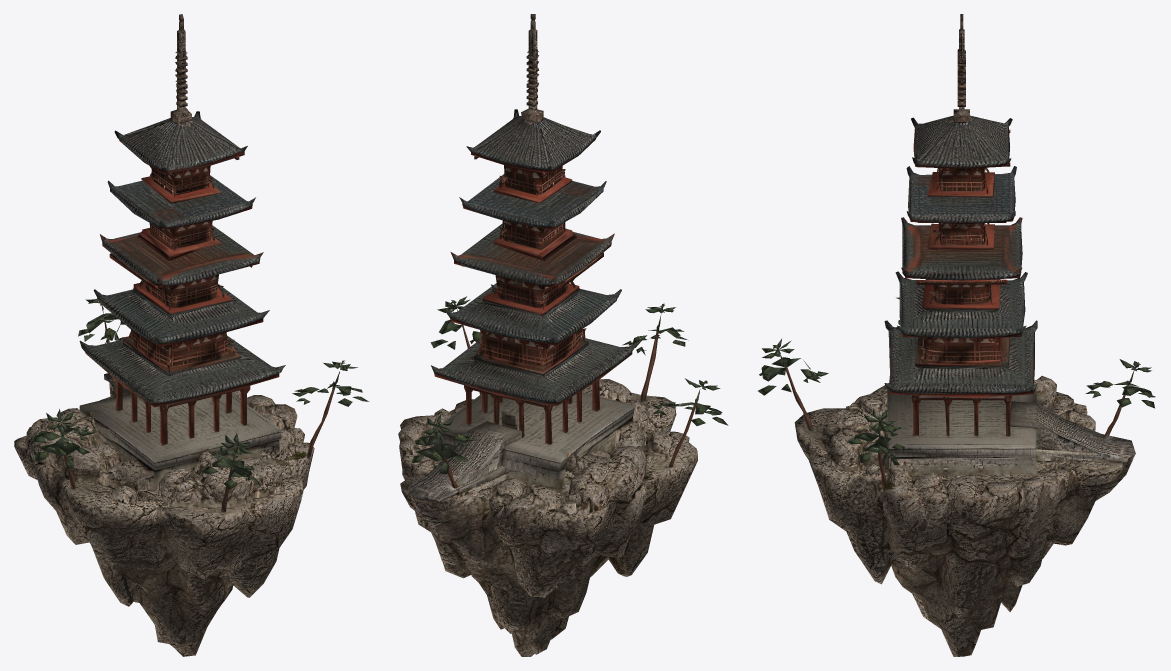
File: tripo_convert_15b34398-6cdd-4118-8757-a3b75ee0a547.fbx
3 renders of one model, left to right at view 1: azimuth 30°, elevation 25°; view 2: azimuth 150°, elevation 25°; view 3: azimuth 270°, elevation 25°, orthographic.
Parts seen in each view (by area): view 1: tripo_node_15b34398; view 2: tripo_node_15b34398; view 3: tripo_node_15b34398.
Boxes of the visible parts, left/top/right/bottom form: tripo_node_15b34398: left=14, top=14, right=368, bottom=656; tripo_node_15b34398: left=398, top=14, right=728, bottom=656; tripo_node_15b34398: left=758, top=14, right=1155, bottom=656.
Bounding box in the file's own units: 0.502 × 0.998 × 0.5645.
Materials: 1 (1 with a texture image).
